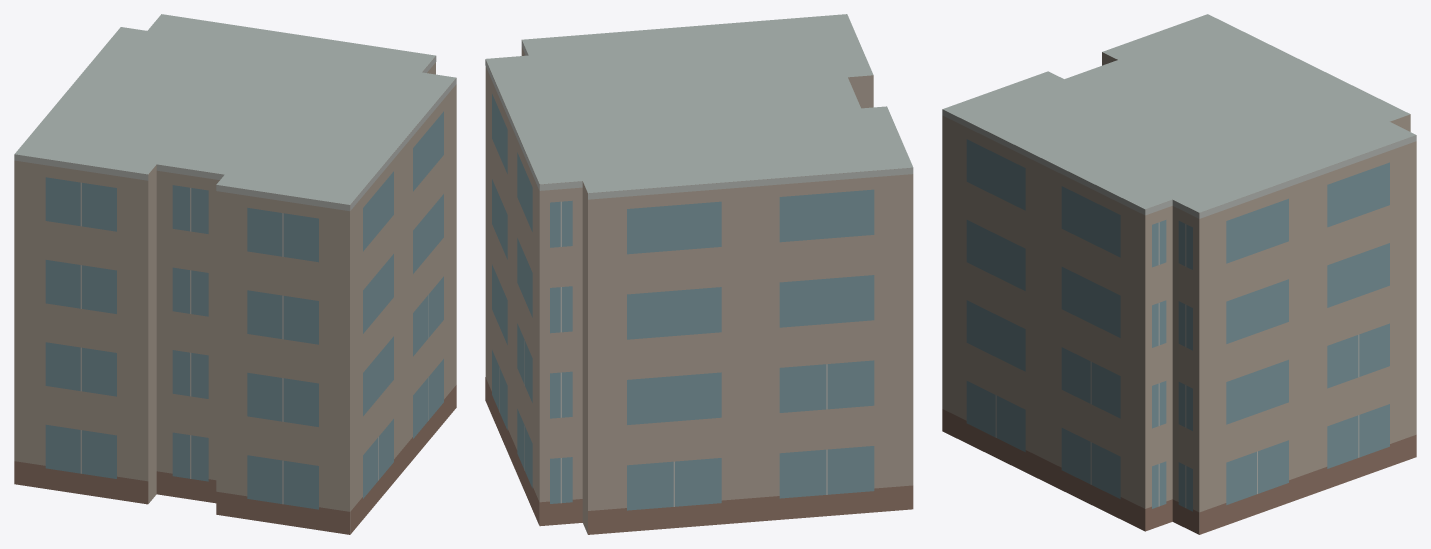
Rendered from survey-upis-32961026.glb.
3 views of the same model, side by side, from view 1: azimuth 30°, elevation 25°; view 2: azimuth 150°, elevation 25°; view 3: azimuth 270°, elevation 25° (orthographic). The views are drawn at different scales.
Parts seen in each view (by area): view 1: survey-upis-32961026.tmp; view 2: survey-upis-32961026.tmp; view 3: survey-upis-32961026.tmp.
Boxes of the visible parts, box(x1,y1,x2,y2) form: survey-upis-32961026.tmp: box(14, 14, 456, 534); survey-upis-32961026.tmp: box(485, 14, 913, 534); survey-upis-32961026.tmp: box(942, 14, 1416, 534).
Bounding box in the file's own units: 17.05 × 12.87 × 17.18.
